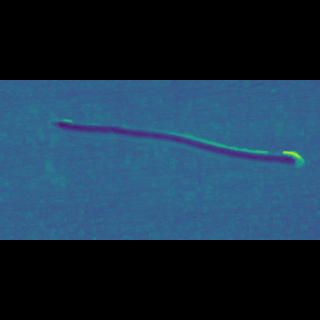Loch: (45, 138, 306, 165)
